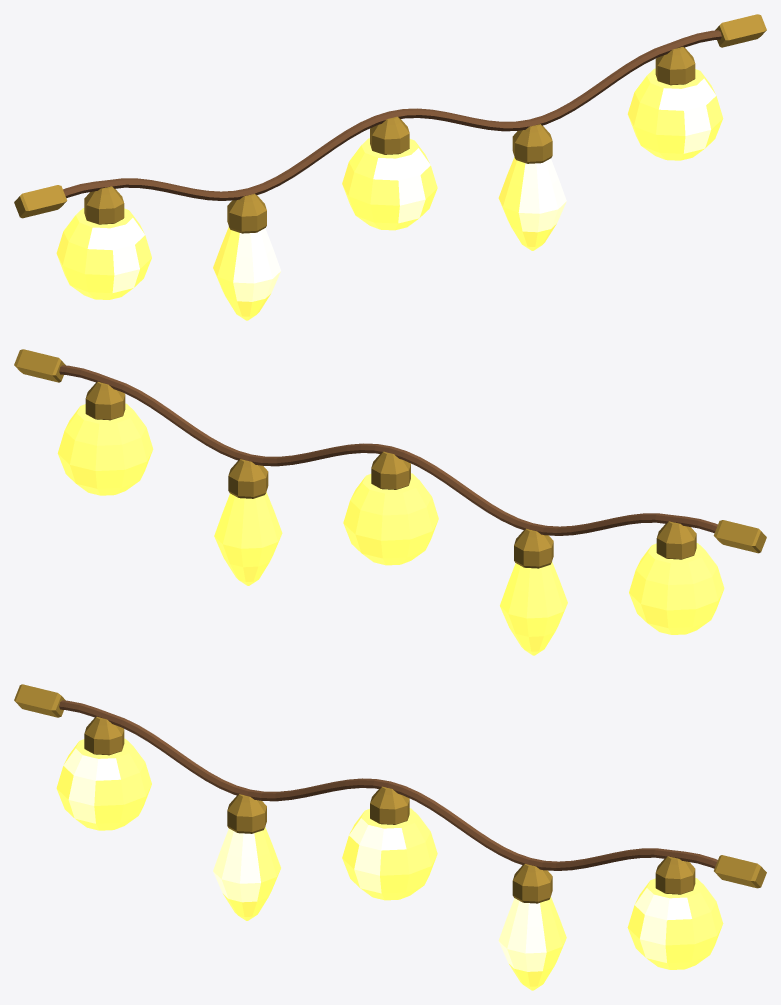
Rendered from 02 Christmas String Lights.glb.
3 views of the same model, one above another, from view 1: azimuth 30°, elevation 25°; view 2: azimuth 150°, elevation 25°; view 3: azimuth 330°, elevation 25° (orthographic).
Visible parts, largest first — view 1: Continuous double drape brown cable, Round globe 5, Round globe 3, Round globe 1, Long teardrop 4, Long teardrop 2, Socket 04, Socket 02, Socket 01, Socket 05, Socket 03, Gold end connector (+1 smaller); view 2: Continuous double drape brown cable, Round globe 5, Round globe 3, Round globe 1, Long teardrop 4, Long teardrop 2, Socket 04, Socket 02, Socket 01, Socket 05, Socket 03, Gold end connector (+1 smaller); view 3: Continuous double drape brown cable, Round globe 5, Round globe 1, Round globe 3, Long teardrop 2, Long teardrop 4, Socket 04, Socket 02, Socket 05, Socket 01, Socket 03, Gold end connector.001 (+1 smaller).
Part boxes in pixels (x1=…): Continuous double drape brown cable: x1=63, y1=30, x2=721, y2=200; Round globe 5: x1=627, y1=68, x2=723, y2=160; Round globe 3: x1=342, y1=138, x2=437, y2=230; Round globe 1: x1=56, y1=208, x2=151, y2=299; Long teardrop 4: x1=498, y1=157, x2=566, y2=250; Long teardrop 2: x1=213, y1=227, x2=280, y2=320; Socket 04: x1=512, y1=124, x2=552, y2=163; Socket 02: x1=227, y1=193, x2=266, y2=233; Socket 01: x1=84, y1=186, x2=124, y2=224; Socket 05: x1=655, y1=46, x2=695, y2=85; Socket 03: x1=370, y1=116, x2=409, y2=154; Gold end connector: x1=14, y1=185, x2=67, y2=218; Continuous double drape brown cable: x1=59, y1=365, x2=717, y2=535; Round globe 5: x1=57, y1=403, x2=153, y2=495; Round globe 3: x1=343, y1=473, x2=438, y2=565; Round globe 1: x1=629, y1=543, x2=724, y2=634; Long teardrop 4: x1=214, y1=492, x2=282, y2=585; Long teardrop 2: x1=500, y1=562, x2=567, y2=655; Socket 04: x1=228, y1=459, x2=268, y2=498; Socket 02: x1=514, y1=528, x2=553, y2=568; Socket 01: x1=656, y1=521, x2=696, y2=559; Socket 05: x1=85, y1=381, x2=125, y2=420; Socket 03: x1=371, y1=451, x2=410, y2=489; Gold end connector: x1=713, y1=520, x2=766, y2=553; Continuous double drape brown cable: x1=59, y1=700, x2=717, y2=870; Round globe 5: x1=627, y1=878, x2=723, y2=969; Round globe 1: x1=56, y1=738, x2=151, y2=830; Round globe 3: x1=342, y1=808, x2=437, y2=900; Long teardrop 2: x1=213, y1=827, x2=280, y2=920; Long teardrop 4: x1=498, y1=897, x2=566, y2=990; Socket 04: x1=512, y1=864, x2=552, y2=903; Socket 02: x1=227, y1=794, x2=266, y2=833; Socket 05: x1=655, y1=856, x2=695, y2=894; Socket 01: x1=84, y1=716, x2=124, y2=755; Socket 03: x1=370, y1=786, x2=409, y2=824; Gold end connector.001: x1=714, y1=855, x2=766, y2=888.
Size of the model in its own units: 6.23 by 1.46 by 0.6657.
